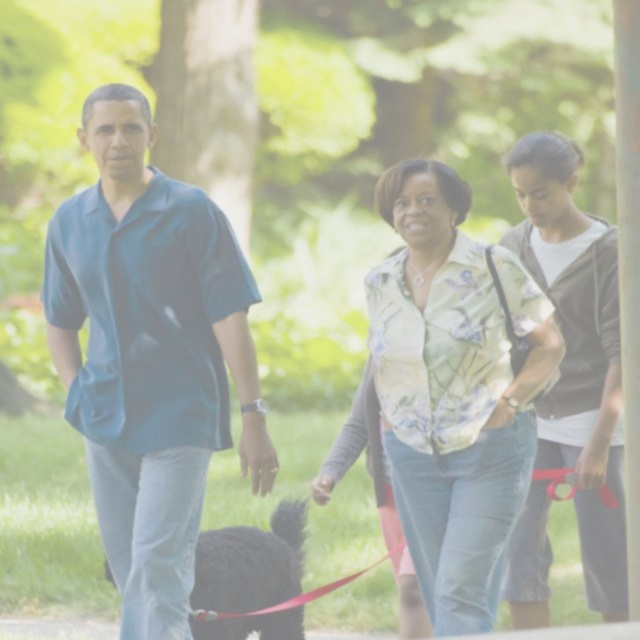pessoa: (35, 78, 288, 640), (357, 153, 571, 640), (494, 131, 630, 628), (307, 240, 438, 640)
